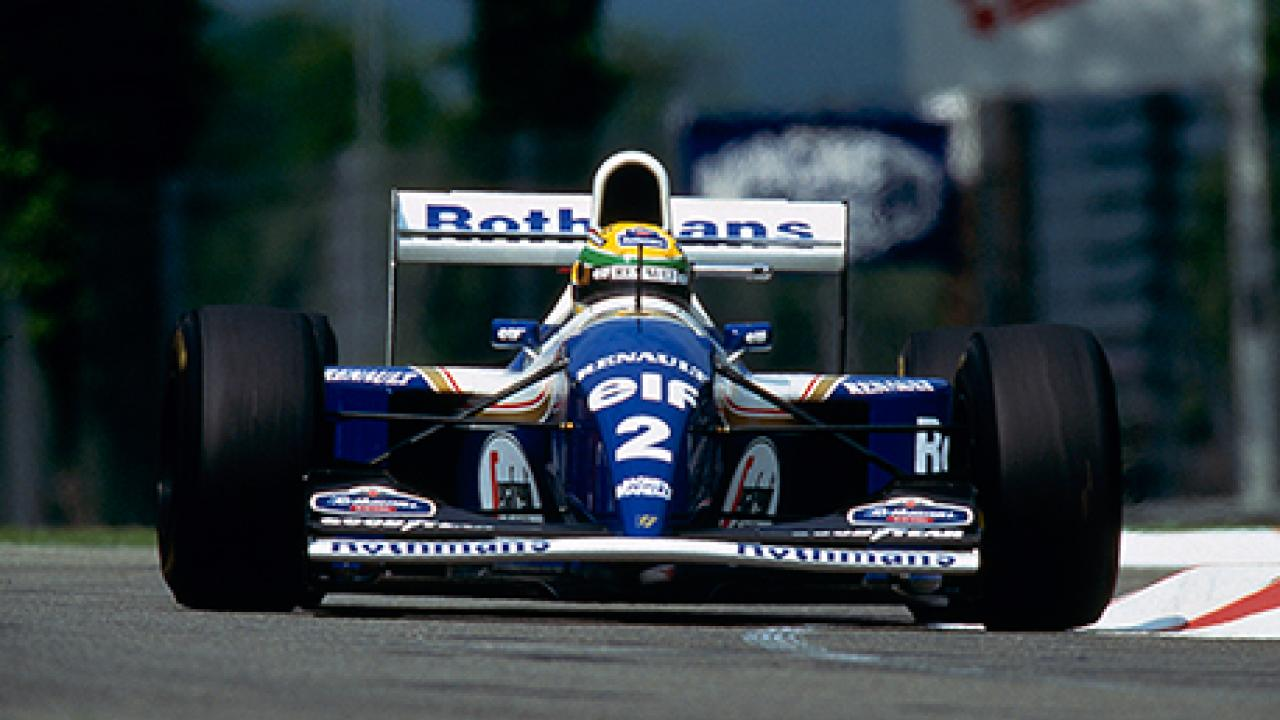f1_car: (129, 138, 1152, 654)
helmet: (558, 212, 706, 331)
